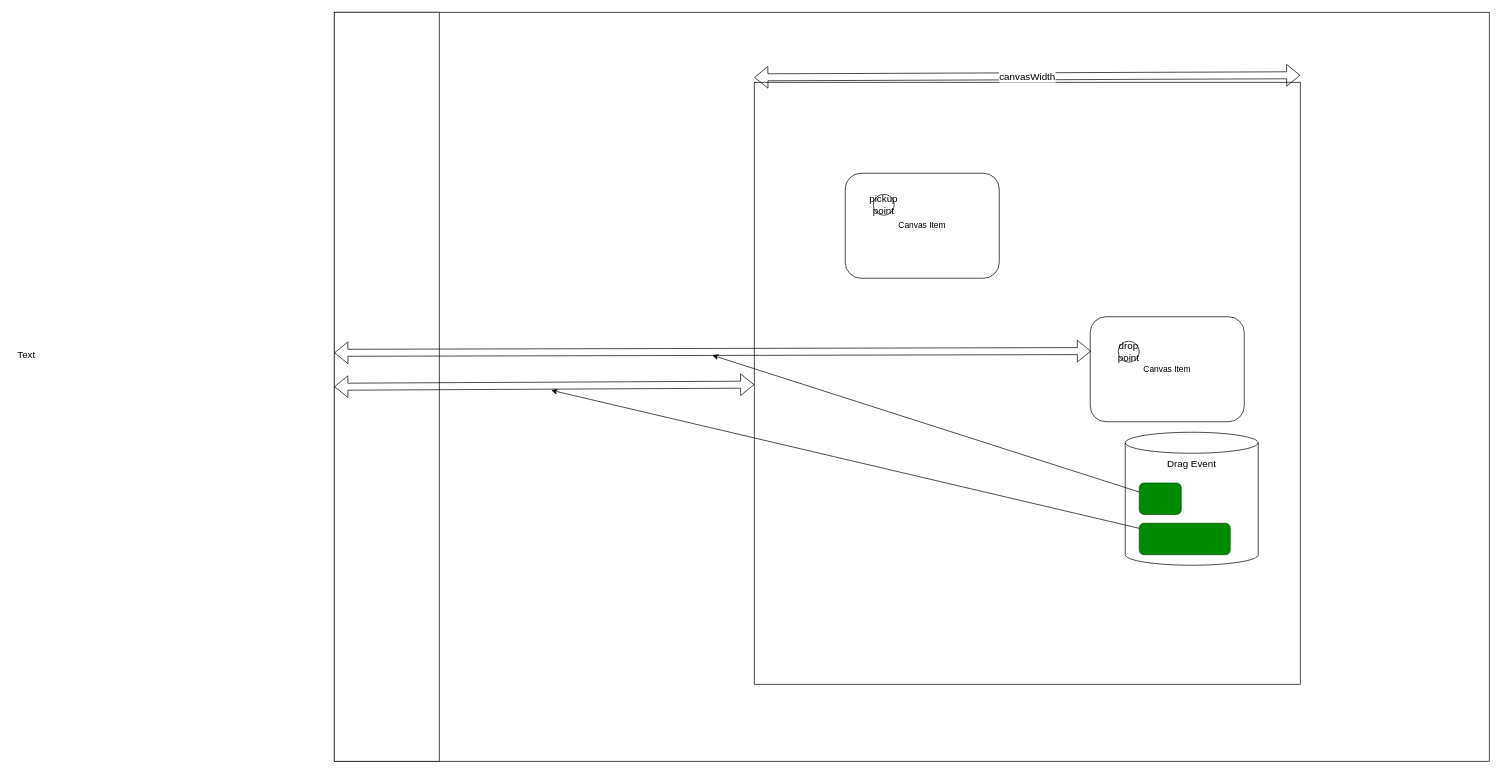
Image size: 1502x774. Some labels were removed from this diagram. Each missing label, with the centre of its shape:
"client" goes at point 1160,498.
"parent - bounding rect" goes at point 1184,539.
